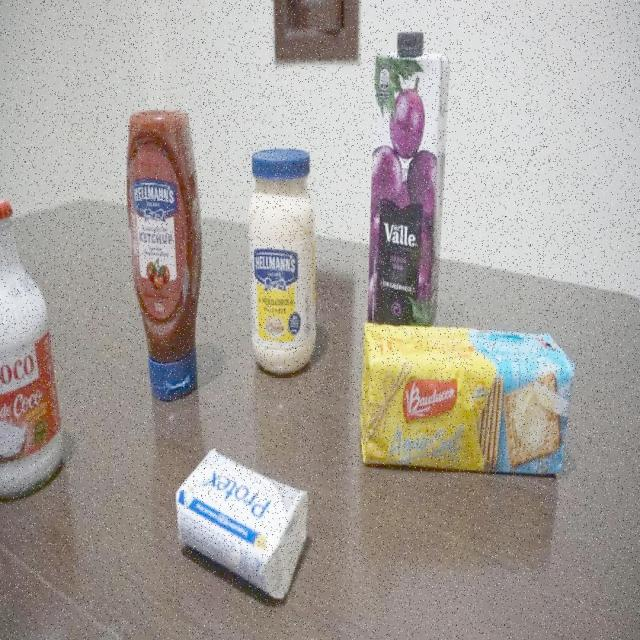CoconutMilk: (0, 197, 63, 503)
Cracker: (359, 322, 573, 484)
Ketchup: (123, 107, 206, 405)
Mayonnaise: (247, 146, 321, 380)
Soap: (175, 448, 311, 601)
